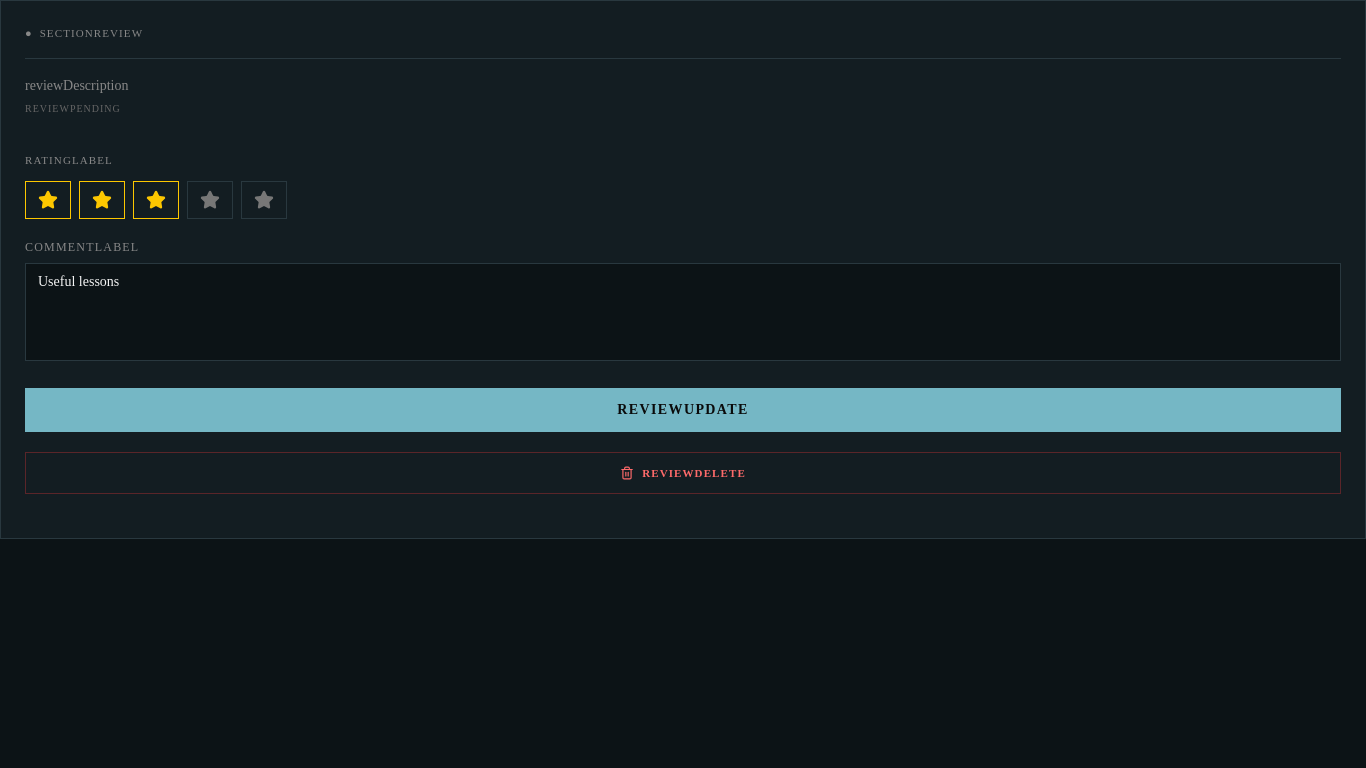
Test: ReviewSection › loads an existing pending review and updates its rating and comment
This screenshot has width=1366, height=768.
Expected: the text "reviewPending" is shown, [25,103,121,114]
Expected: the text box labelled "commentLabel" holds "Useful lessons", [25,263,1341,361]
Click the radio button named "5 out of 5 stars".
click(264, 200)  # box [241,181,287,219]
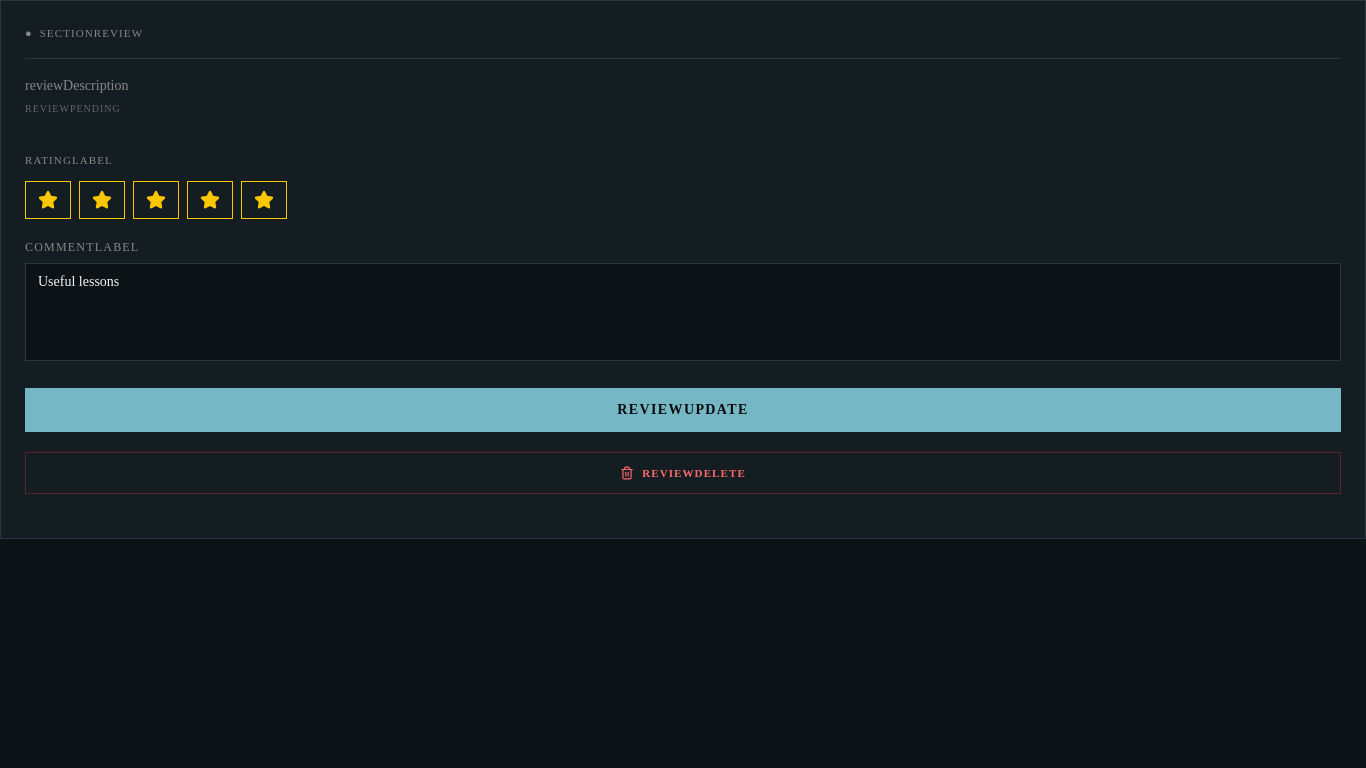
Now the radio button named "5 out of 5 stars" is checked, box [241,181,287,219]
Replace the text in the text box labelled "commentLabel" with "  Even more useful  " at (683, 312), box [25,263,1341,361]
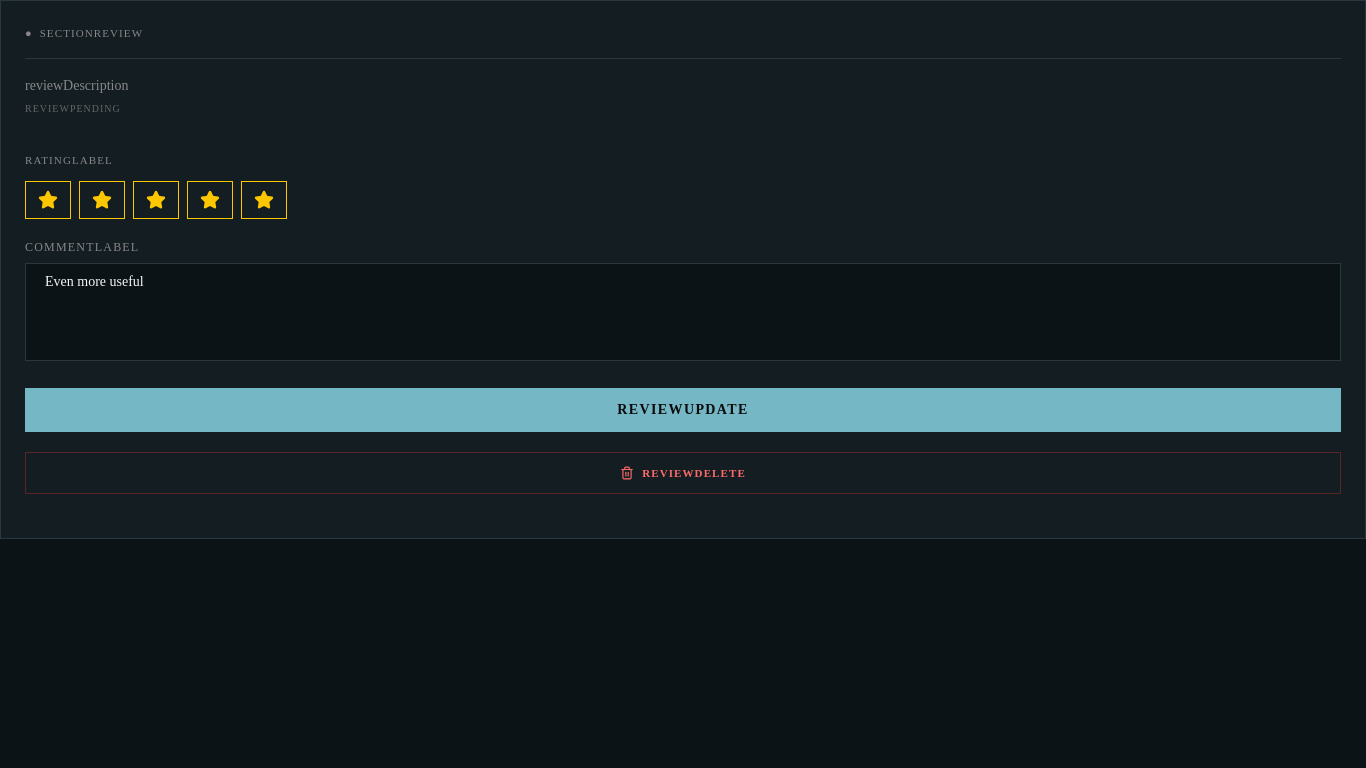
Click the button "reviewUpdate".
click(683, 410)  # box [25,388,1341,432]
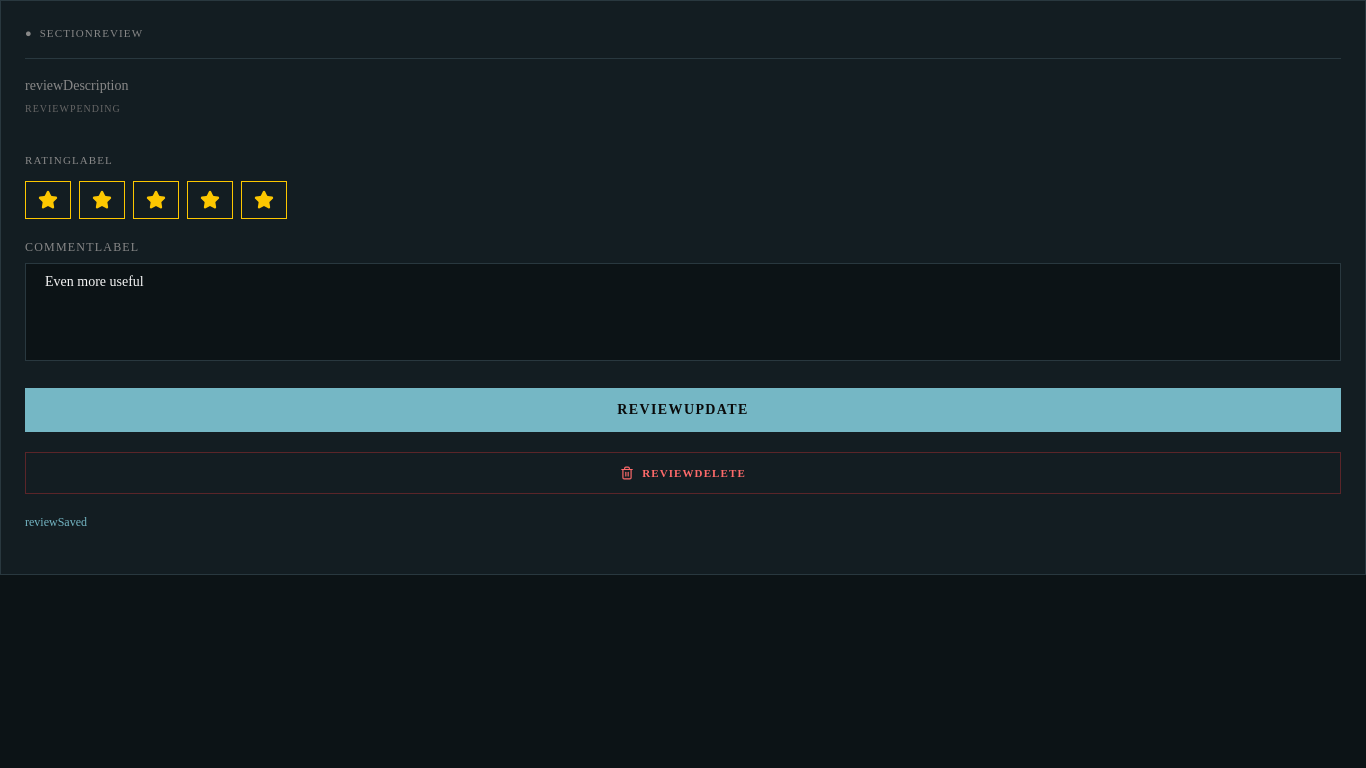
Now the text "reviewSaved" is shown, box [25,515,87,529]
